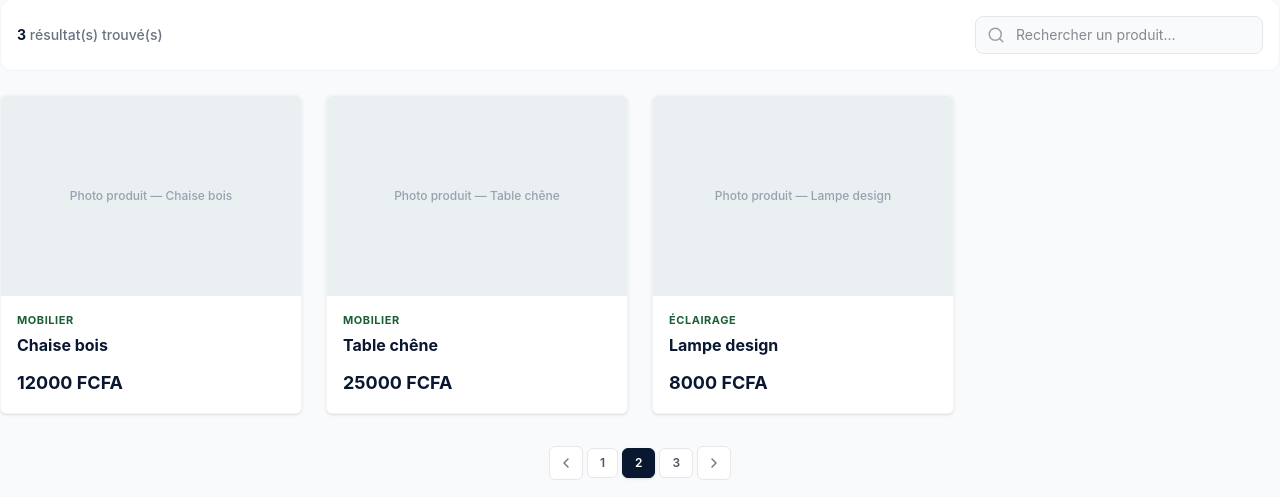
ProductGrid — pagination › affiche un spinner sur la page cliquée pendant le chargement
Click the button named "Page 3" at (676, 462), box [660,448,693,478]
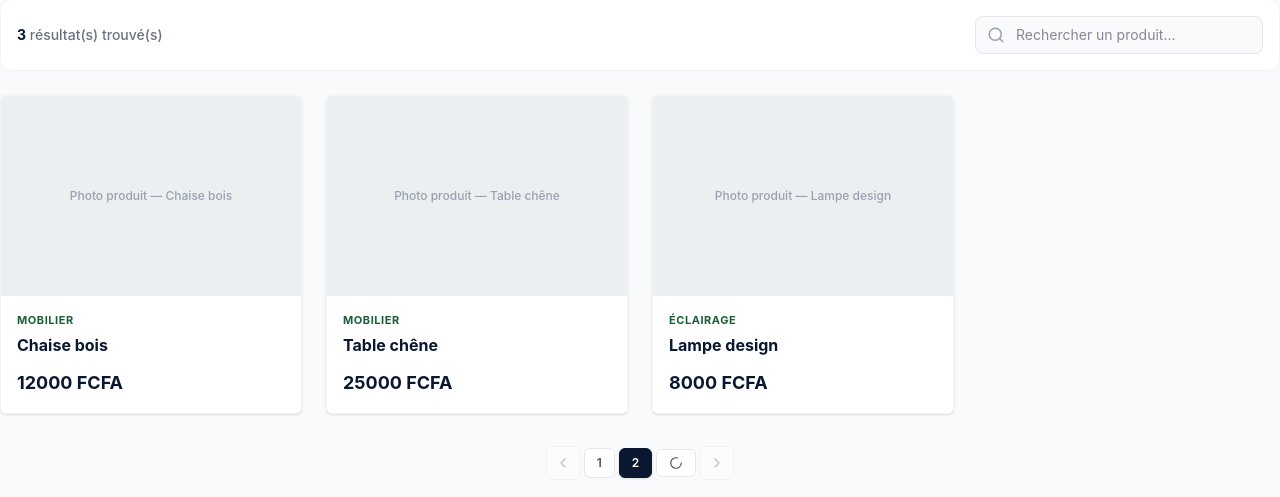
Now the icon with class "animate-spin" is shown, box [669,456,683,470]
